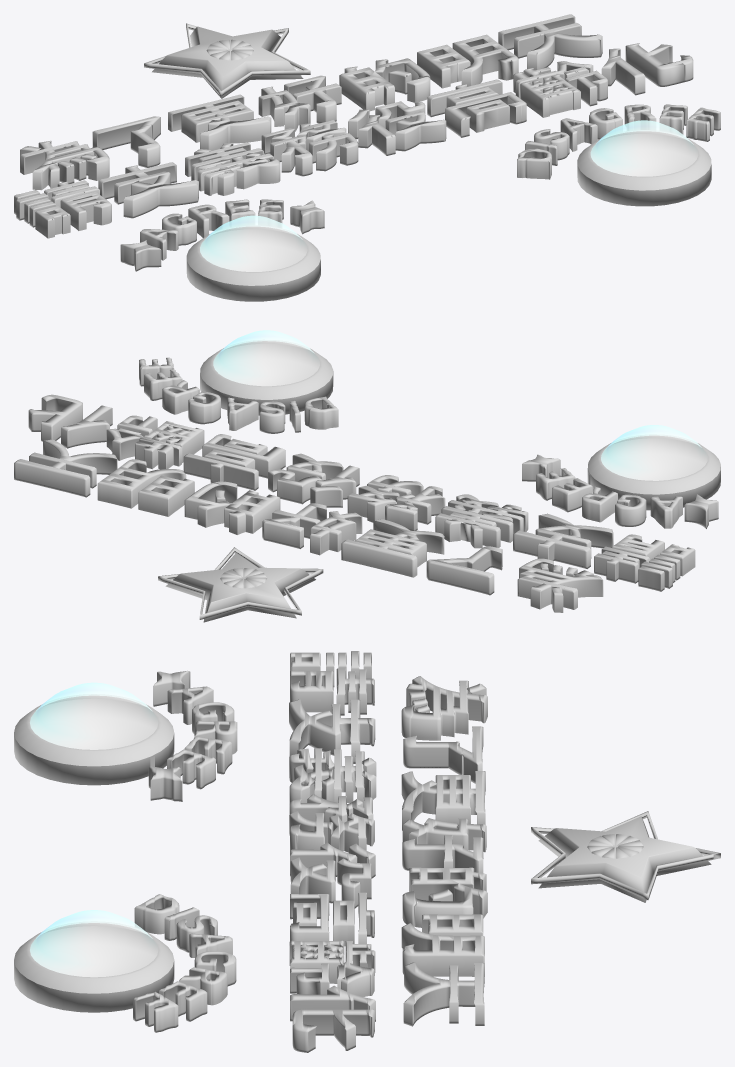
File: bottonC.glb
The picture shows the model from 3 angles, top to bottom: view 1: azimuth 30°, elevation 25°; view 2: azimuth 150°, elevation 25°; view 3: azimuth 270°, elevation 25°; orthographic projection. The views are drawn at different scales.
Visible parts, largest first — view 1: 圓柱體; view 2: 圓柱體; view 3: 圓柱體.
Boxes of the visible parts, x1=… form: 圓柱體: x1=14, y1=14, x2=720, y2=301; 圓柱體: x1=14, y1=330, x2=720, y2=622; 圓柱體: x1=14, y1=651, x2=720, y2=1052.
Size of the model in its own units: 0.5568 by 0.0433 by 0.4372.
